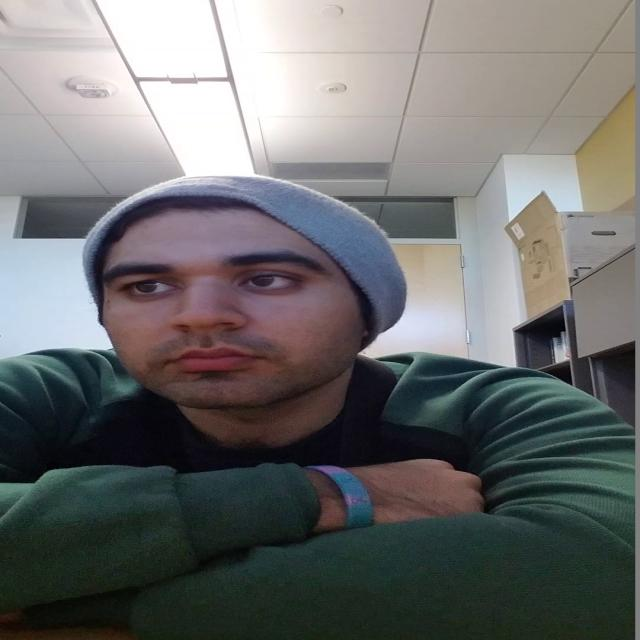sem_oculos: (80, 242, 373, 301)
